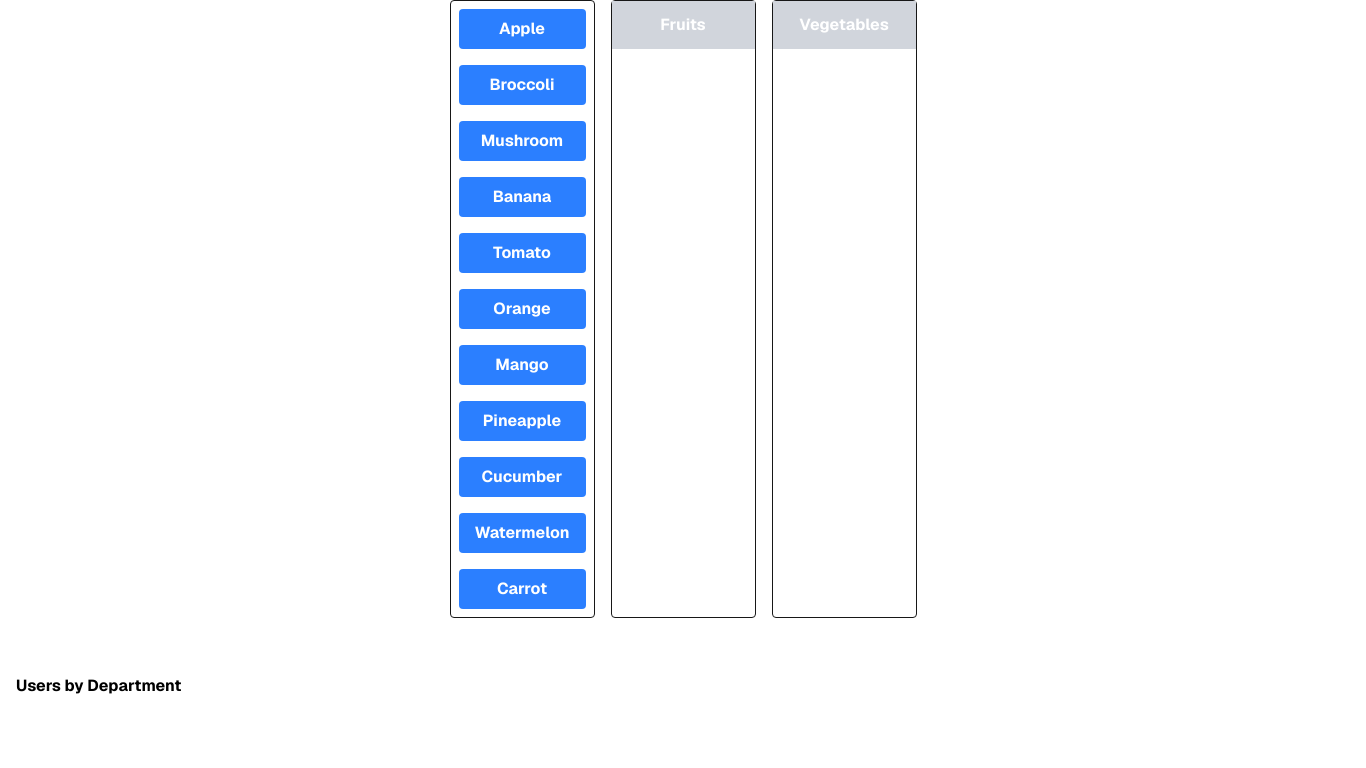
Test case: Home (page) › returns the first fruit to the main list on context menu when it is fruit turn
Click the button "Apple".
click(522, 29)  # box [458,9,586,49]
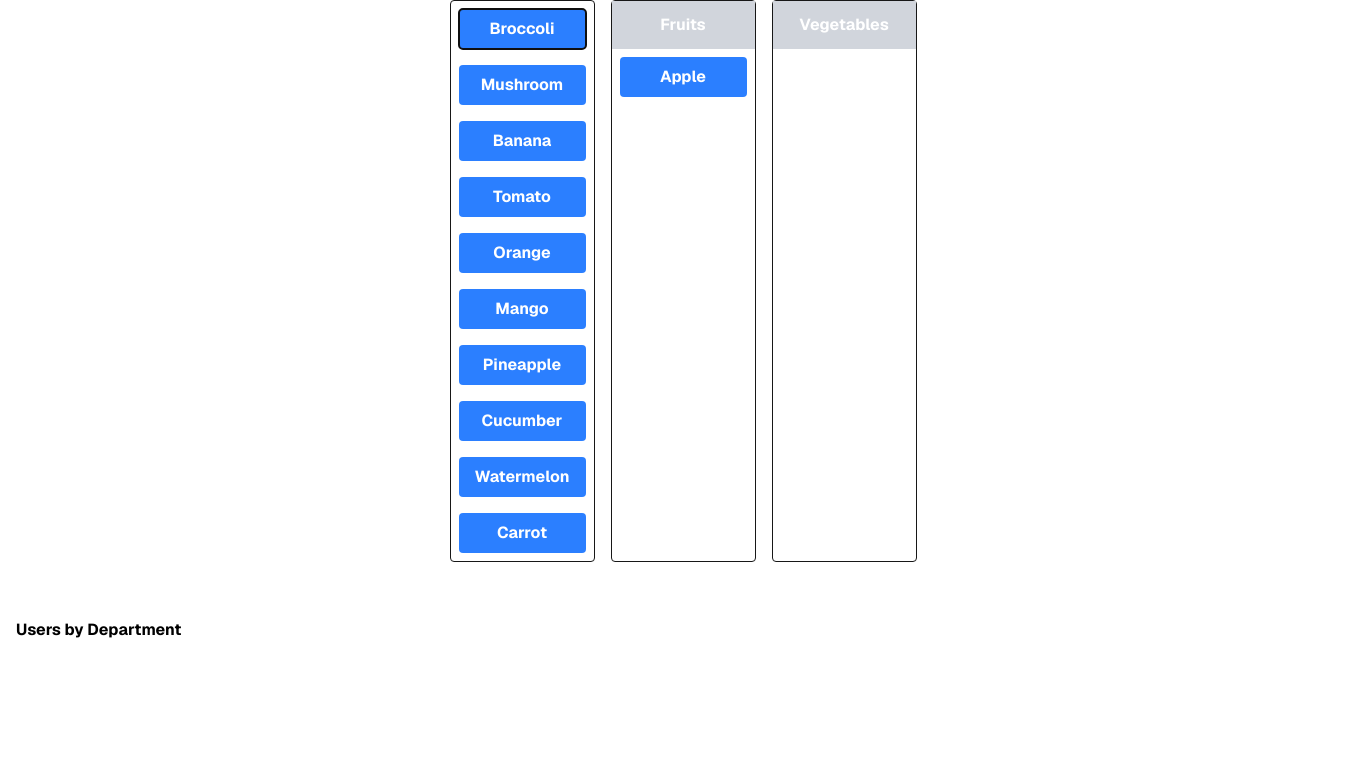
Click the button "Banana".
click(522, 141)  # box [458,121,586,161]
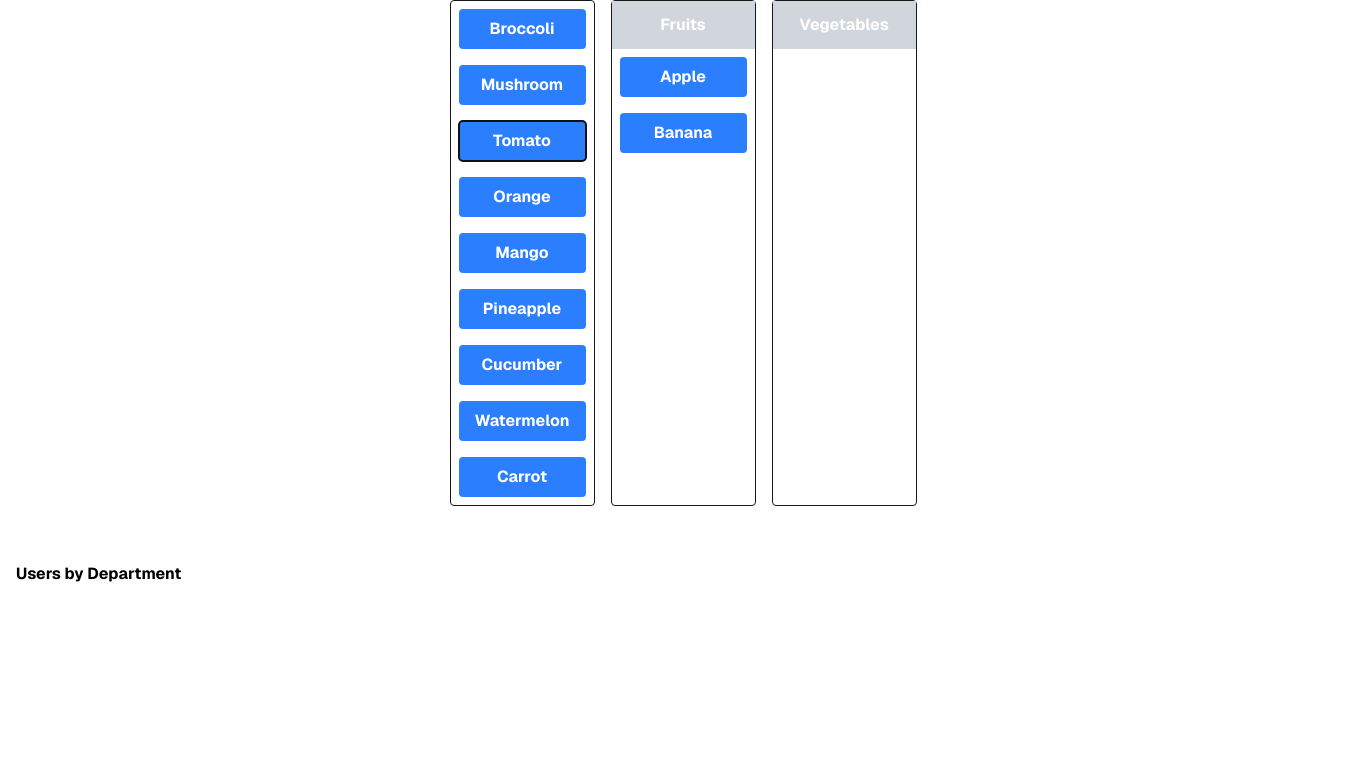
Now the buttons read "Apple", "Banana", in this order, box [620,57,746,97]; [620,113,746,153]
Right-click the element that starts with "Broccoli".
right_click(683, 325)  # box [0,0,1365,650]
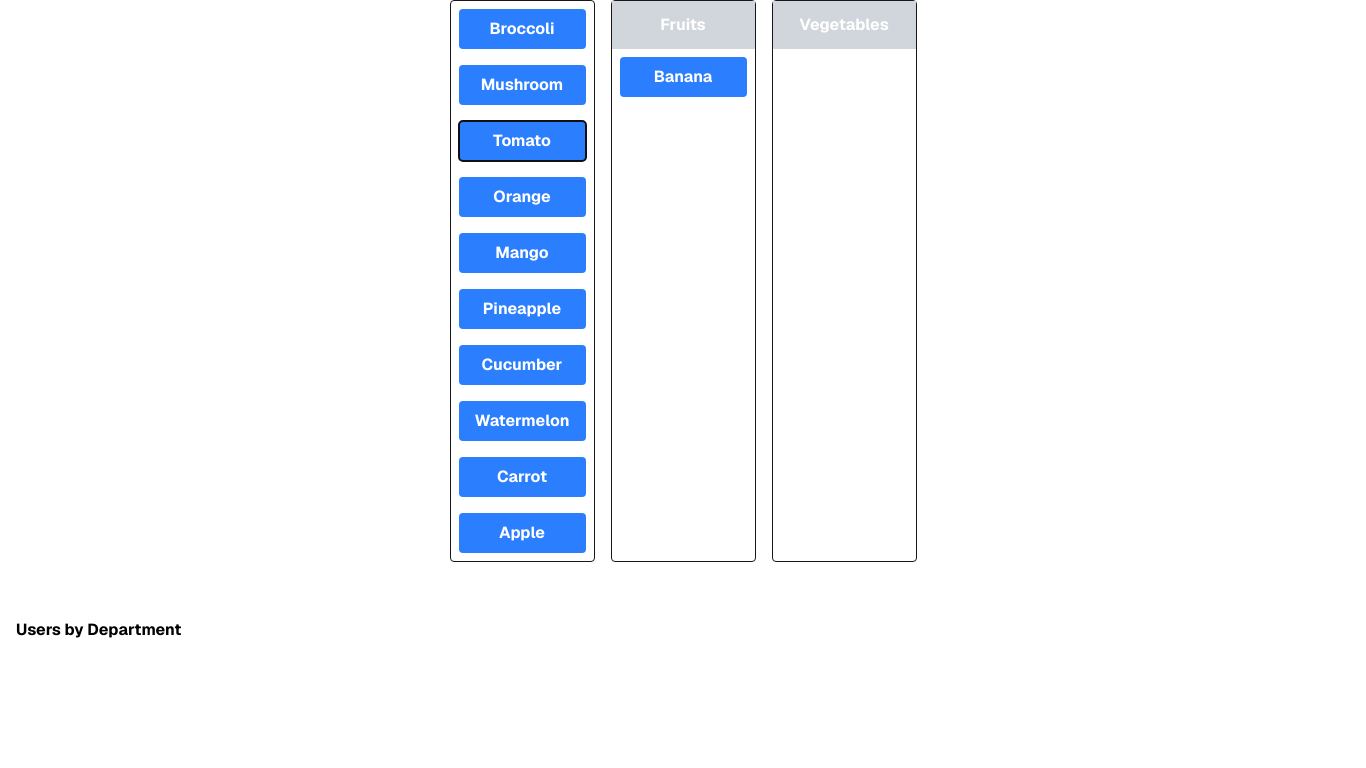
Now the buttons read "Banana", in this order, box [620,57,746,97]
Now the button "Apple" is shown, box [458,513,586,553]
